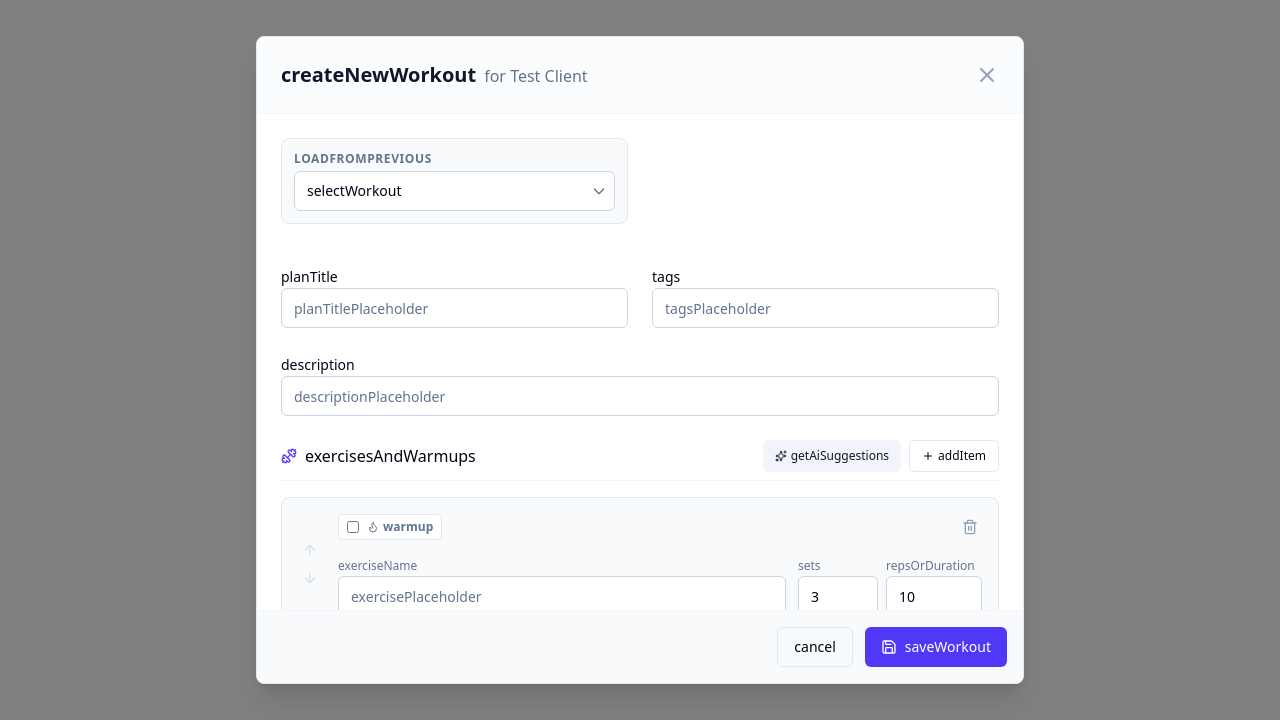
Test: WorkoutEditorModal › handles AI insight generation successfully
Step 1. Click the button "getAiSuggestions" → [832, 456], box [763,440,901,472]
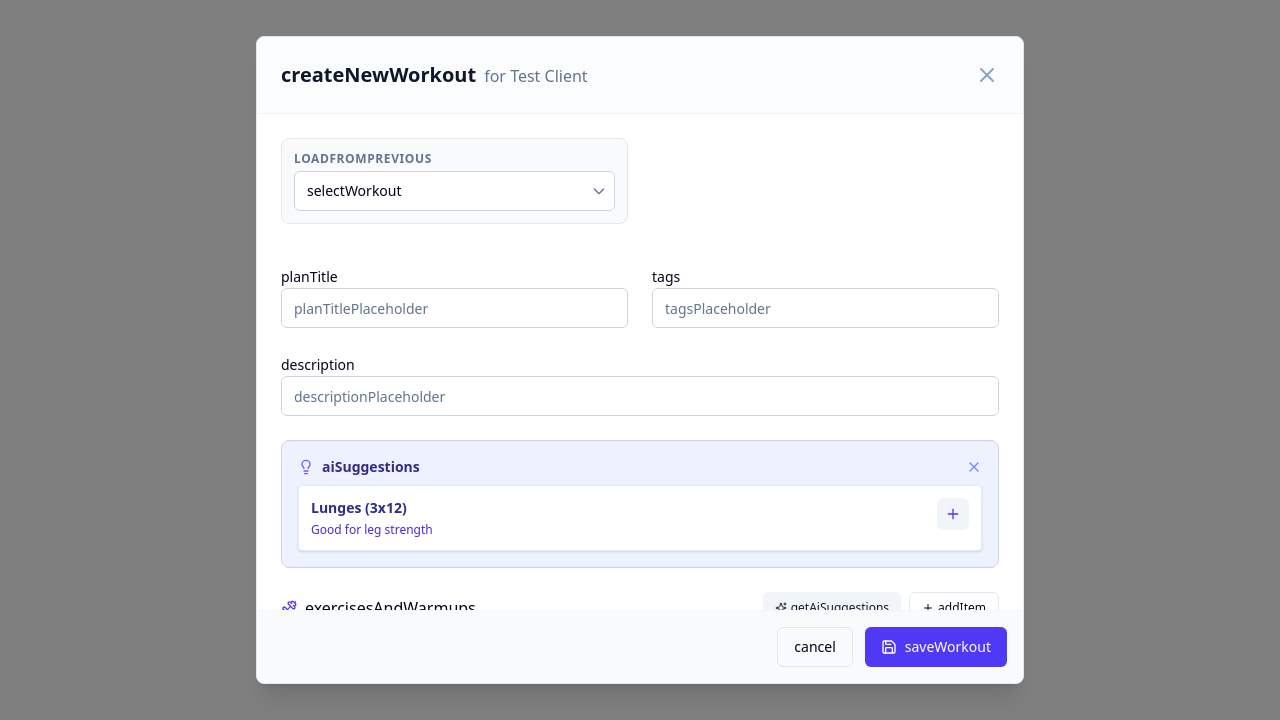
Now the heading "aiSuggestions" is shown, box [298,457,420,477]
Now the text "Lunges (3x12)" is shown, box [311,498,407,517]
Now the text "Good for leg strength" is shown, box [311,521,433,538]
